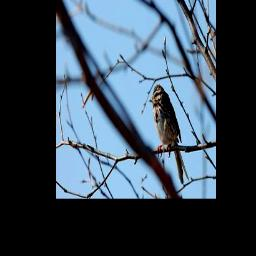Sparrow: (149, 82, 190, 185)
